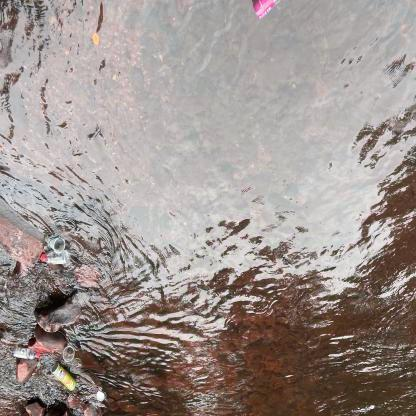Metal: (51, 357, 78, 393)
Plastic: (40, 237, 72, 267), (248, 0, 285, 22), (12, 343, 42, 362)
